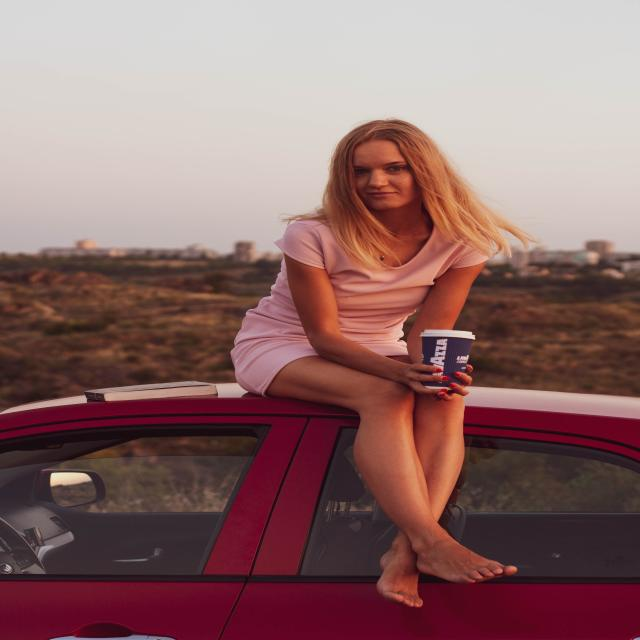cup: (416, 326, 479, 393)
